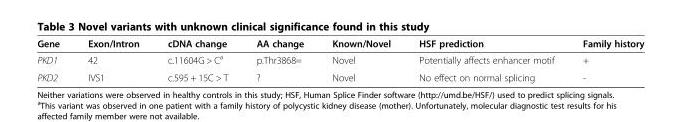table: (36, 37, 643, 82)
table column: (404, 37, 567, 82), (152, 37, 241, 82), (317, 37, 404, 82), (73, 37, 152, 82), (241, 37, 317, 82), (567, 37, 643, 82), (36, 37, 73, 82)
table column header: (36, 37, 643, 50)
table row: (36, 50, 643, 68), (36, 68, 643, 82), (36, 37, 643, 50)
